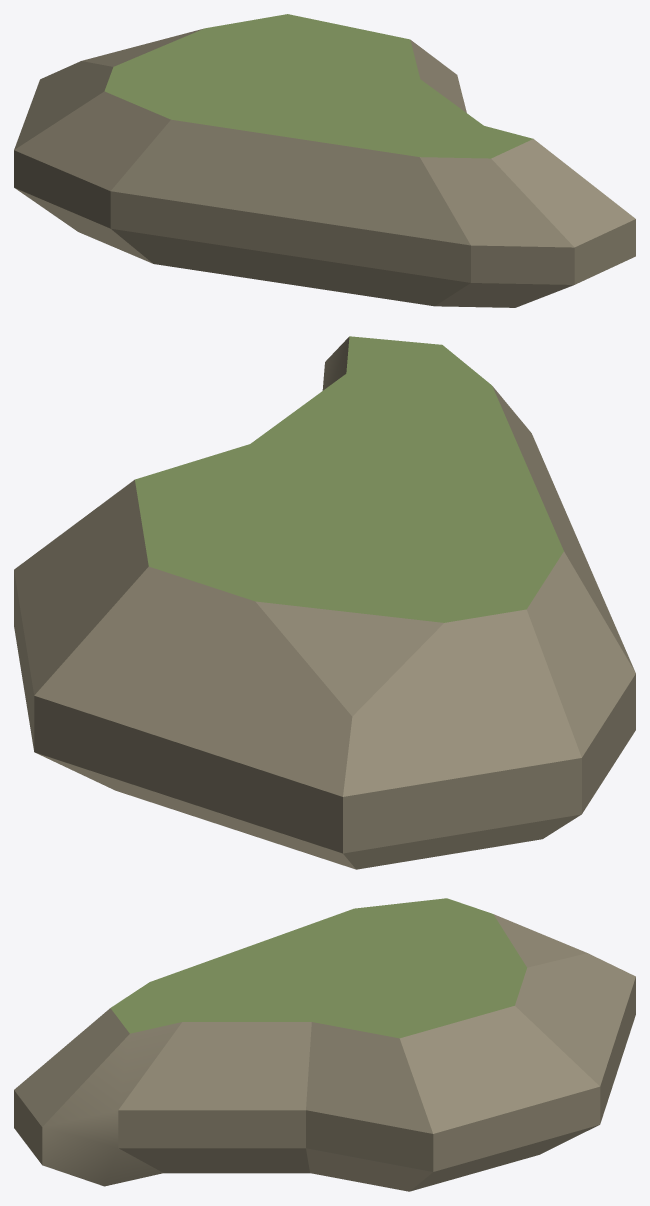
File: rock_largeA.glb
3 views of the same model, one above another, from view 1: azimuth 30°, elevation 25°; view 2: azimuth 150°, elevation 25°; view 3: azimuth 270°, elevation 25° (orthographic). The views are drawn at different scales.
Visible parts, largest first — view 1: rock_largeA; view 2: rock_largeA; view 3: rock_largeA.
Part boxes in pixels (x1=…): rock_largeA: x1=14, y1=14, x2=635, y2=307; rock_largeA: x1=14, y1=336, x2=635, y2=869; rock_largeA: x1=14, y1=898, x2=635, y2=1191.
Bounding box in the file's own units: 0.7849 × 0.2598 × 1.02.
